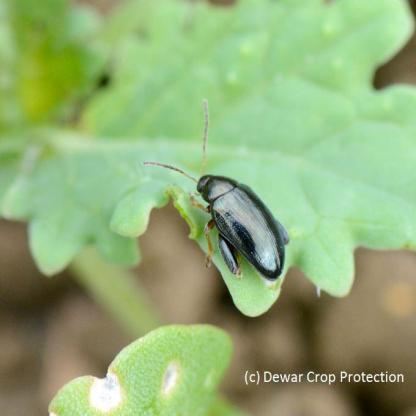beetle: (158, 125, 305, 292)
